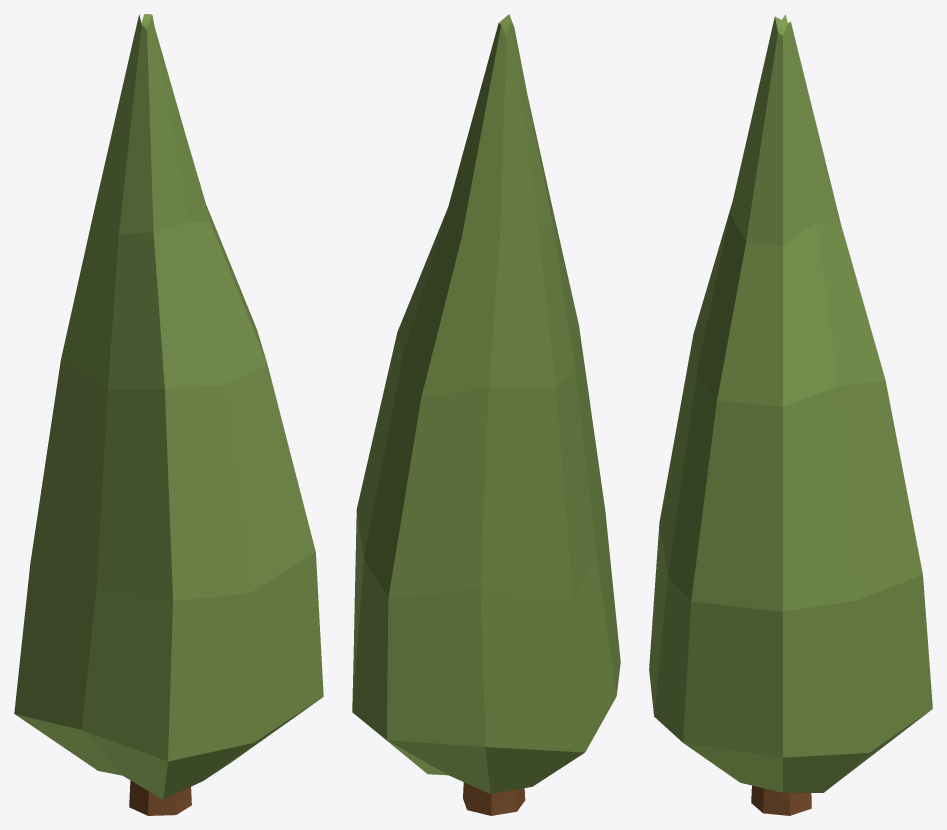
The model's file is cypress.glb.
The picture shows the model from 3 angles, left to right: view 1: azimuth 30°, elevation 25°; view 2: azimuth 150°, elevation 25°; view 3: azimuth 270°, elevation 25°; orthographic projection.
Parts seen in each view (by area): view 1: Cypress, Cone; view 2: Cypress, Cone; view 3: Cypress, Cone.
Boxes of the visible parts, x1,y1,x2,y2 form: Cypress: [14, 14, 323, 799]; Cone: [129, 780, 191, 815]; Cypress: [352, 14, 620, 794]; Cone: [463, 782, 525, 815]; Cypress: [649, 14, 932, 792]; Cone: [751, 785, 811, 815].
Bounding box in the file's own units: 0.5577 × 1.63 × 0.5362.
